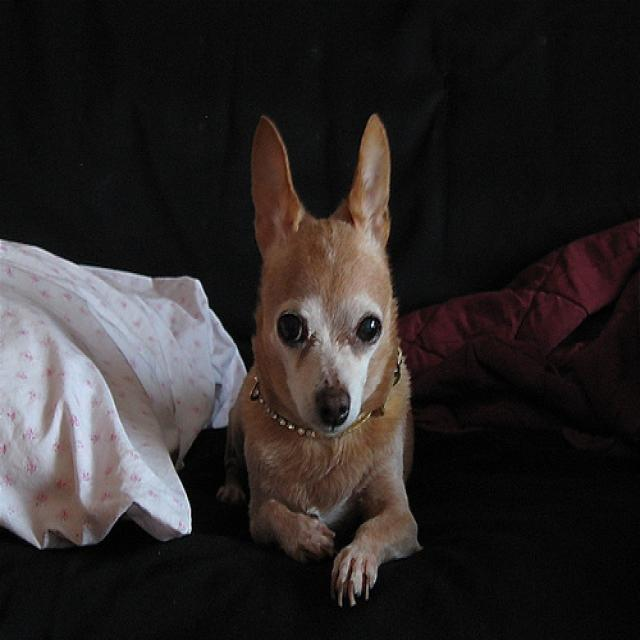dog-chihuahua: (212, 104, 425, 616)
